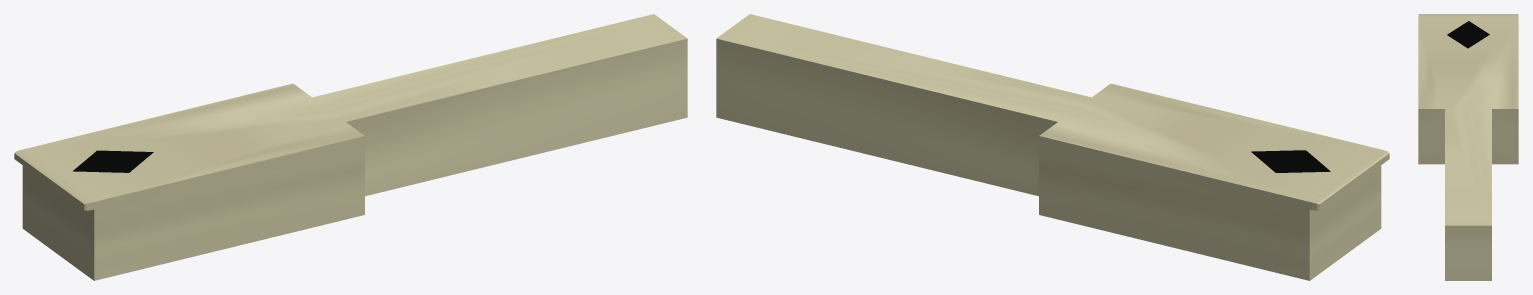
The model's file is G_key.obj.
3 renders of one model, left to right at view 1: azimuth 30°, elevation 25°; view 2: azimuth 150°, elevation 25°; view 3: azimuth 270°, elevation 25°, orthographic. The views are drawn at different scales.
Visible parts, largest first — view 1: G_key; view 2: G_key; view 3: G_key.
Boxes of the visible parts, box(x1,y1,x2,y2) form: G_key: box(14, 14, 687, 280); G_key: box(716, 14, 1389, 280); G_key: box(1418, 14, 1518, 280).
Size of what is drawn, in the model's own units: 17.27 by 2.12 by 3.45.
Materials: 2 (2 with a texture image).
